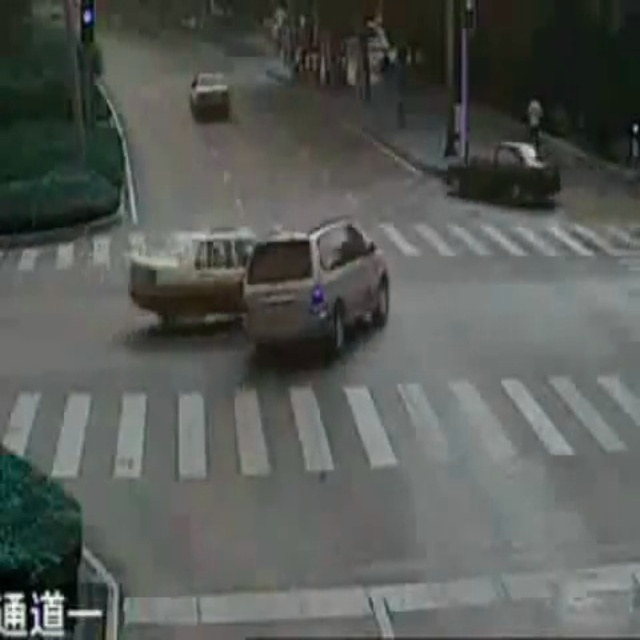acc: (128, 222, 390, 354)
